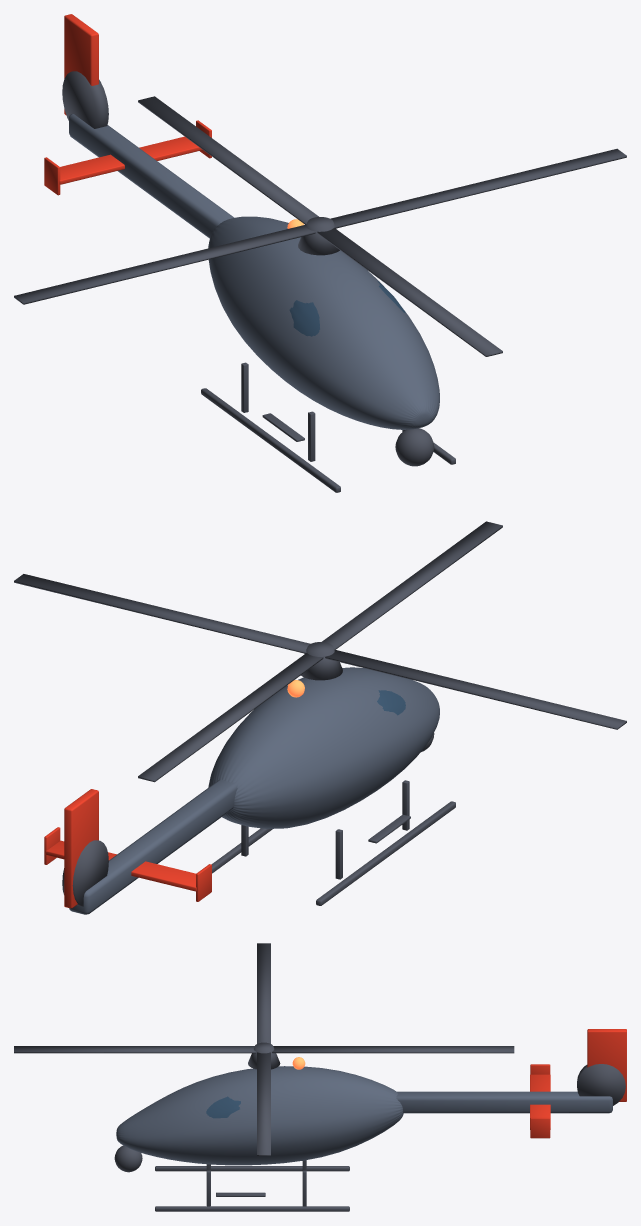
The model's file is tv_helicopter_h135.glb.
3 views of the same model, one above another, from view 1: azimuth 30°, elevation 25°; view 2: azimuth 150°, elevation 25°; view 3: azimuth 270°, elevation 25° (orthographic). The views are drawn at different scales.
Visible parts, largest first — view 1: Heli_Fuselage, Heli_Tailboom, Rotor_Blade_2, Rotor_Blade_0, Rotor_Blade_1, Rotor_Blade_3, Heli_VFin, Heli_HStab, Heli_Fenestron_Hub, Heli_Skid_-0.82, Heli_Cineflex, Rotor_Swashplate_Hub (+1 smaller); view 2: Heli_Fuselage, Heli_Tailboom, Rotor_Blade_2, Rotor_Blade_0, Rotor_Blade_3, Rotor_Blade_1, Heli_VFin, Heli_Fenestron_Hub, Heli_Skid_-0.82, Heli_HStab, Rotor_Swashplate_Hub; view 3: Heli_Fuselage, Heli_Tailboom, Rotor_Blade_3, Rotor_Blade_1, Heli_VFin, Heli_Fenestron_Hub, Rotor_Blade_0, Rotor_Blade_2, Heli_Skid_0.82, Heli_Skid_-0.82, Heli_HStab, Heli_Cineflex (+3 smaller).
Boxes of the visible parts, left/top/right/bottom form: Heli_Fuselage: left=208, top=216, right=439, bottom=429; Heli_Tailboom: left=69, top=114, right=234, bottom=238; Rotor_Blade_2: left=14, top=224, right=315, bottom=304; Rotor_Blade_0: left=330, top=148, right=626, bottom=228; Rotor_Blade_1: left=317, top=228, right=502, bottom=356; Rotor_Blade_3: left=138, top=96, right=318, bottom=224; Heli_VFin: left=64, top=14, right=98, bottom=115; Heli_HStab: left=59, top=136, right=202, bottom=184; Heli_Fenestron_Hub: left=62, top=71, right=108, bottom=128; Heli_Skid_-0.82: left=201, top=388, right=340, bottom=492; Heli_Cineflex: left=395, top=428, right=434, bottom=466; Rotor_Swashplate_Hub: left=298, top=217, right=339, bottom=255; Heli_Fuselage: left=208, top=667, right=439, bottom=828; Heli_Tailboom: left=69, top=779, right=237, bottom=914; Rotor_Blade_2: left=325, top=649, right=626, bottom=729; Rotor_Blade_0: left=14, top=574, right=310, bottom=653; Rotor_Blade_3: left=138, top=653, right=323, bottom=782; Rotor_Blade_1: left=322, top=521, right=502, bottom=649; Heli_VFin: left=64, top=789, right=98, bottom=908; Heli_Fenestron_Hub: left=62, top=840, right=108, bottom=906; Heli_Skid_-0.82: left=316, top=801, right=455, bottom=905; Heli_HStab: left=45, top=840, right=196, bottom=891; Rotor_Swashplate_Hub: left=301, top=642, right=342, bottom=680; Heli_Fuselage: left=116, top=1066, right=403, bottom=1165; Heli_Tailboom: left=396, top=1091, right=612, bottom=1113; Rotor_Blade_3: left=272, top=1046, right=514, bottom=1053; Rotor_Blade_1: left=14, top=1046, right=256, bottom=1053; Heli_VFin: left=587, top=1029, right=626, bottom=1101; Heli_Fenestron_Hub: left=577, top=1064, right=625, bottom=1105; Rotor_Blade_0: left=257, top=1052, right=270, bottom=1155; Rotor_Blade_2: left=257, top=943, right=270, bottom=1043; Heli_Skid_0.82: left=155, top=1206, right=349, bottom=1211; Heli_Skid_-0.82: left=155, top=1166, right=349, bottom=1171; Heli_HStab: left=530, top=1074, right=550, bottom=1129; Heli_Cineflex: left=114, top=1145, right=142, bottom=1172.
Size of the model in its own units: 8.6 by 3.06 by 10.54.
